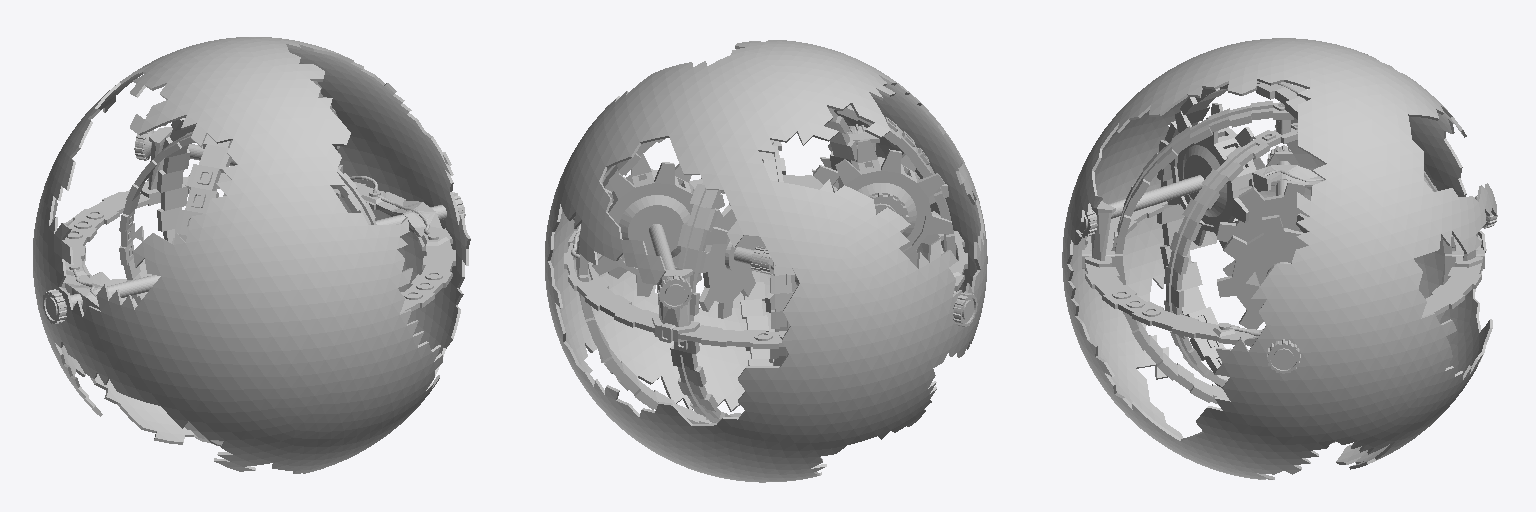
Rendered from GearBall.obj.
3 views of the same model, side by side, from view 1: azimuth 30°, elevation 25°; view 2: azimuth 150°, elevation 25°; view 3: azimuth 270°, elevation 25° (orthographic).
Visible parts, largest first — view 1: GearBall; view 2: GearBall; view 3: GearBall.
Part boxes in pixels (left/top/right/bottom): GearBall: left=33, top=37, right=470, bottom=473; GearBall: left=545, top=40, right=987, bottom=482; GearBall: left=1062, top=38, right=1497, bottom=479.
Bounding box in the file's own units: 2.08 × 1.93 × 1.93.